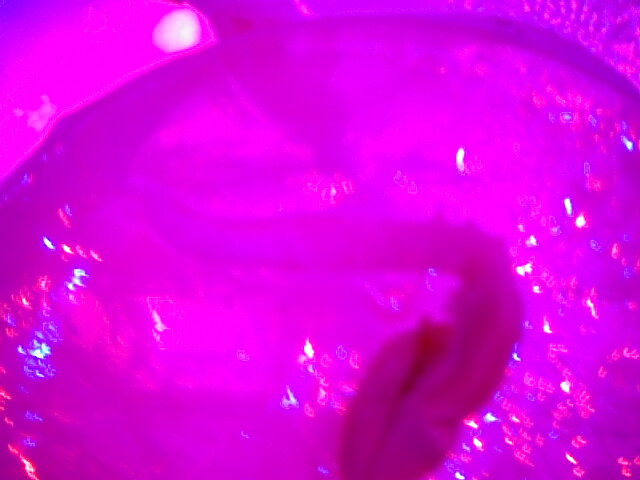sprout: (156, 180, 552, 480)
